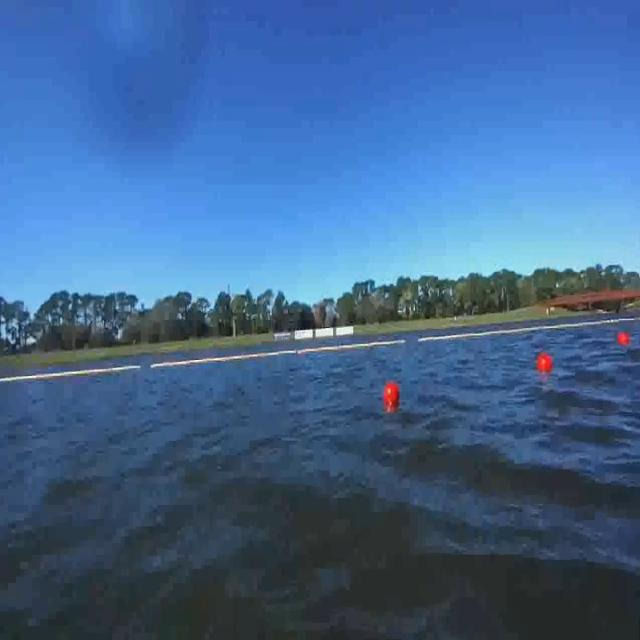red-buoy: (538, 352, 555, 374), (382, 381, 397, 404), (618, 334, 631, 347)
